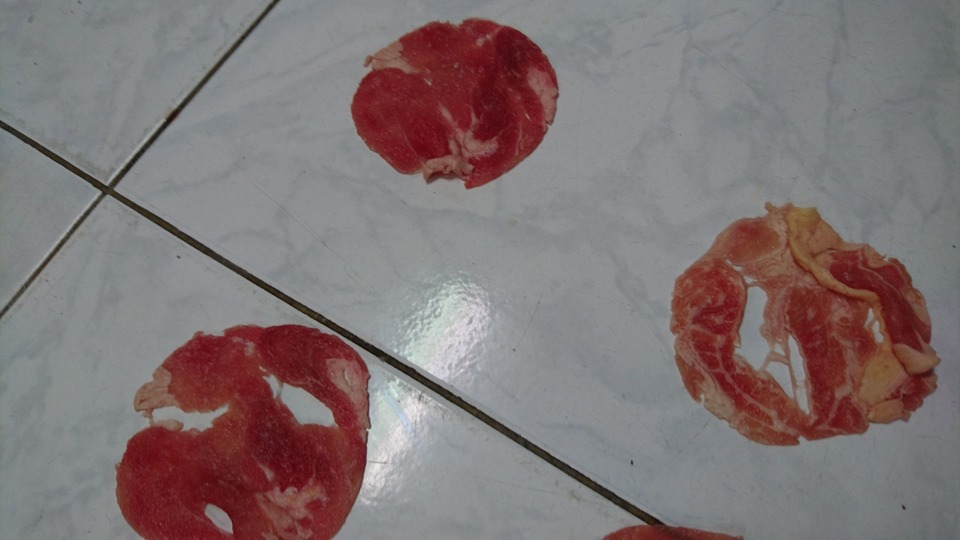restructured meat: (673, 189, 947, 451), (117, 326, 384, 540), (345, 19, 564, 195)
